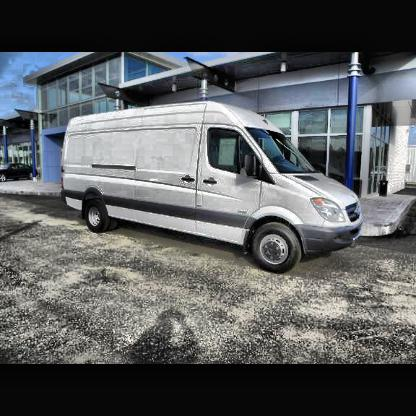Mercedes-Benz Sprinter Van 2012: (60, 101, 364, 275)
